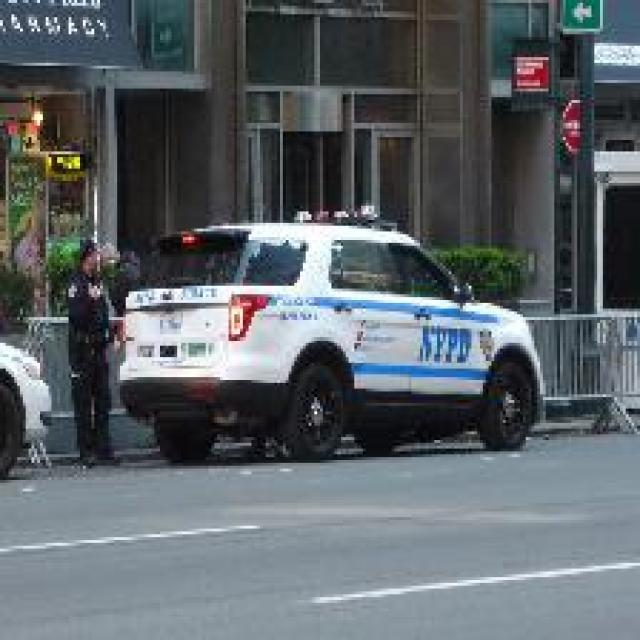emergency: (112, 208, 548, 464)
